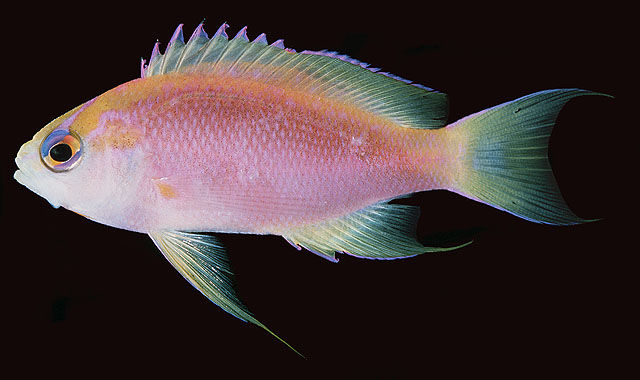fish: (13, 17, 615, 359)
